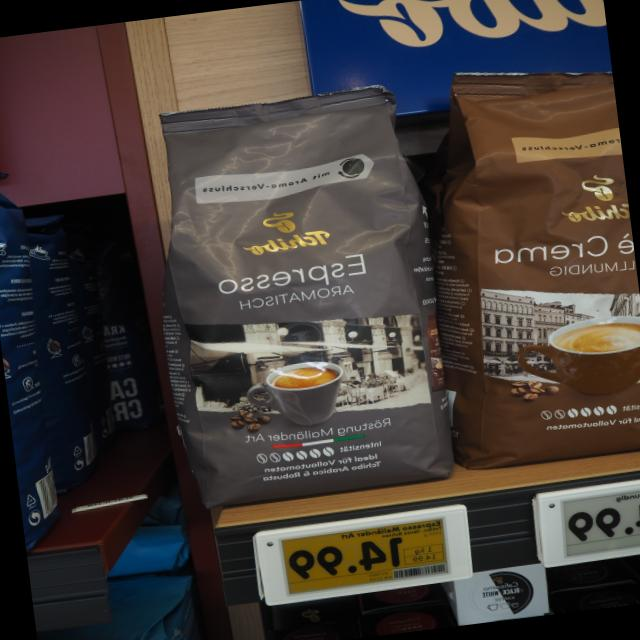CC Vollmundig 36 Pads: (408, 46, 640, 475)
Espresso Aromatisch: (128, 76, 464, 521)
